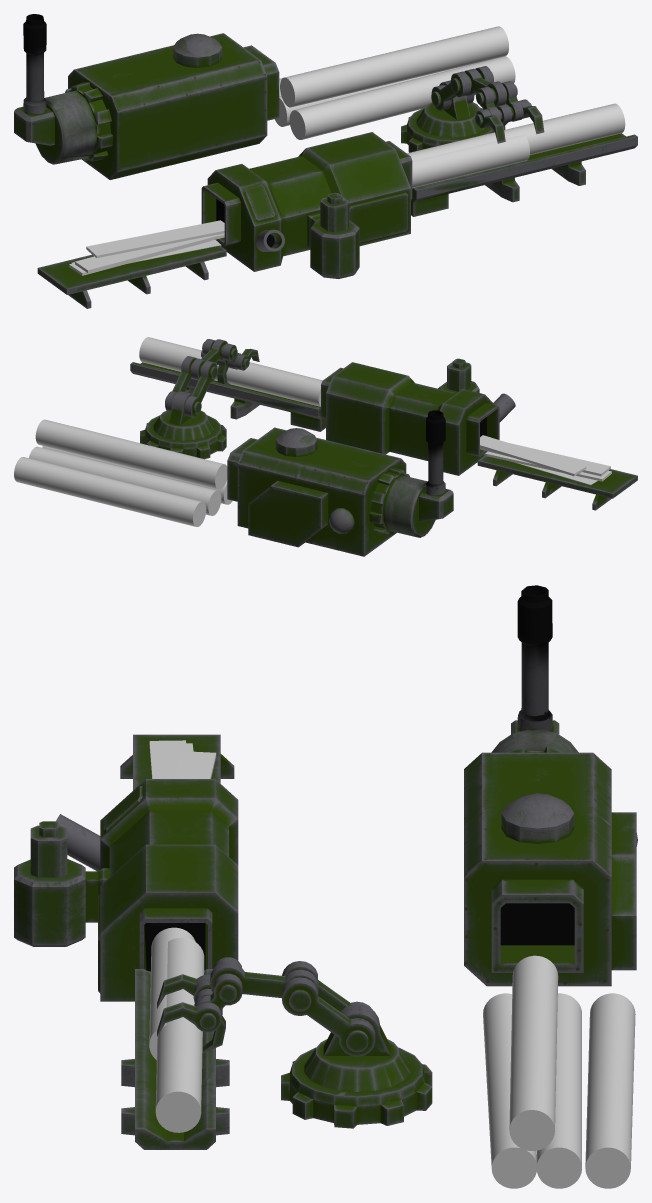
Rendered from 3_WoodExtraction_SteamSawmill.fbx.
The picture shows the model from 3 angles, top to bottom: view 1: azimuth 30°, elevation 25°; view 2: azimuth 150°, elevation 25°; view 3: azimuth 270°, elevation 25°; orthographic projection. The views are drawn at different scales.
Parts seen in each view (by area): view 1: Saw_01, SteamMachine, Log_01_L_01__5_, Log_01_L_01__3_, Log_01_L_01__2_, Log_01_L_01, M_02_L_01, Plank_01_L_01__3_, Plank_01_L_01__4_, M_03_L_01, M_01_L_01, M_04_01_L_01 (+4 smaller); view 2: SteamMachine, Saw_01, Log_01_L_01__5_, Log_01_L_01__4_, Log_01_L_01__2_, Log_01_L_01__1_, M_02_L_01, M_01_L_01, M_03_L_01, Plank_01_L_01__3_, Saw_02_L_01, Log_01_L_01__3_ (+6 smaller); view 3: SteamMachine, Saw_01, Log_01_L_01__4_, Log_01_L_01__5_, Log_01_L_01__2_, M_01_L_01, Log_01_L_01__1_, Log_01_L_01__3_, M_02_L_01, M_03_L_01, M_04_01_L_01, Log_01_L_01 (+5 smaller).
Part boxes in pixels (<box>): Saw_01: <box>37,132,637,308</box>; SteamMachine: <box>14,14,279,179</box>; Log_01_L_01__5_: <box>280,26,508,107</box>; Log_01_L_01__3_: <box>289,56,515,139</box>; Log_01_L_01__2_: <box>407,103,625,160</box>; Log_01_L_01: <box>412,134,529,188</box>; M_02_L_01: <box>416,80,484,137</box>; Plank_01_L_01__3_: <box>86,220,224,257</box>; Plank_01_L_01__4_: <box>75,235,218,272</box>; M_03_L_01: <box>431,66,493,110</box>; M_01_L_01: <box>401,107,494,152</box>; M_04_01_L_01: <box>475,99,544,143</box>; SteamMachine: <box>227,410,453,556</box>; Saw_01: <box>130,362,637,510</box>; Log_01_L_01__5_: <box>35,419,227,489</box>; Log_01_L_01__4_: <box>14,457,206,526</box>; Log_01_L_01__2_: <box>139,337,322,406</box>; Log_01_L_01__1_: <box>29,446,221,515</box>; M_02_L_01: <box>153,391,213,440</box>; M_01_L_01: <box>140,415,226,459</box>; M_03_L_01: <box>165,356,217,417</box>; Plank_01_L_01__3_: <box>480,435,586,476</box>; Saw_02_L_01: <box>447,362,471,391</box>; Log_01_L_01__3_: <box>42,446,232,504</box>; SteamMachine: <box>464,585,637,986</box>; Saw_01: <box>14,734,238,1149</box>; Log_01_L_01__4_: <box>585,993,635,1188</box>; Log_01_L_01__5_: <box>509,955,558,1150</box>; Log_01_L_01__2_: <box>155,937,204,1132</box>; M_01_L_01: <box>281,1047,432,1128</box>; Log_01_L_01__1_: <box>536,993,581,1188</box>; Log_01_L_01__3_: <box>483,993,536,1188</box>; M_02_L_01: <box>304,1004,410,1091</box>; M_03_L_01: <box>282,961,375,1056</box>; M_04_01_L_01: <box>157,974,221,1036</box>; Log_01_L_01: <box>149,927,195,1059</box>.
Size of the model in its own units: 2147 by 631 by 1368.
